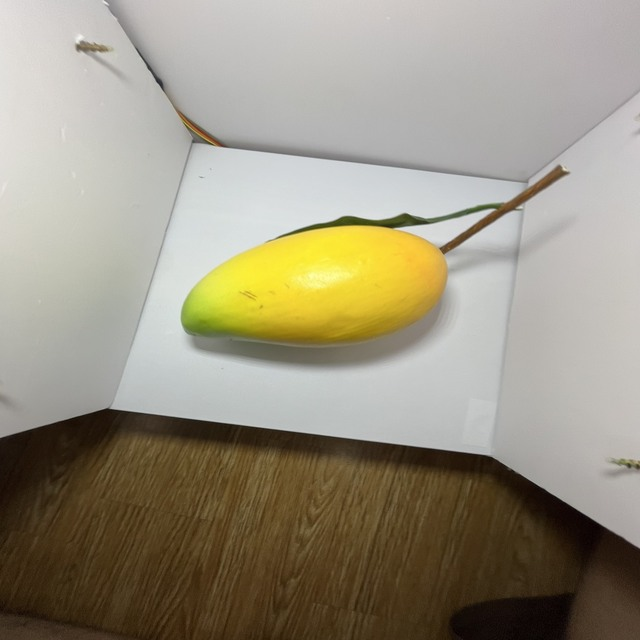Xoai: (171, 216, 455, 352)
